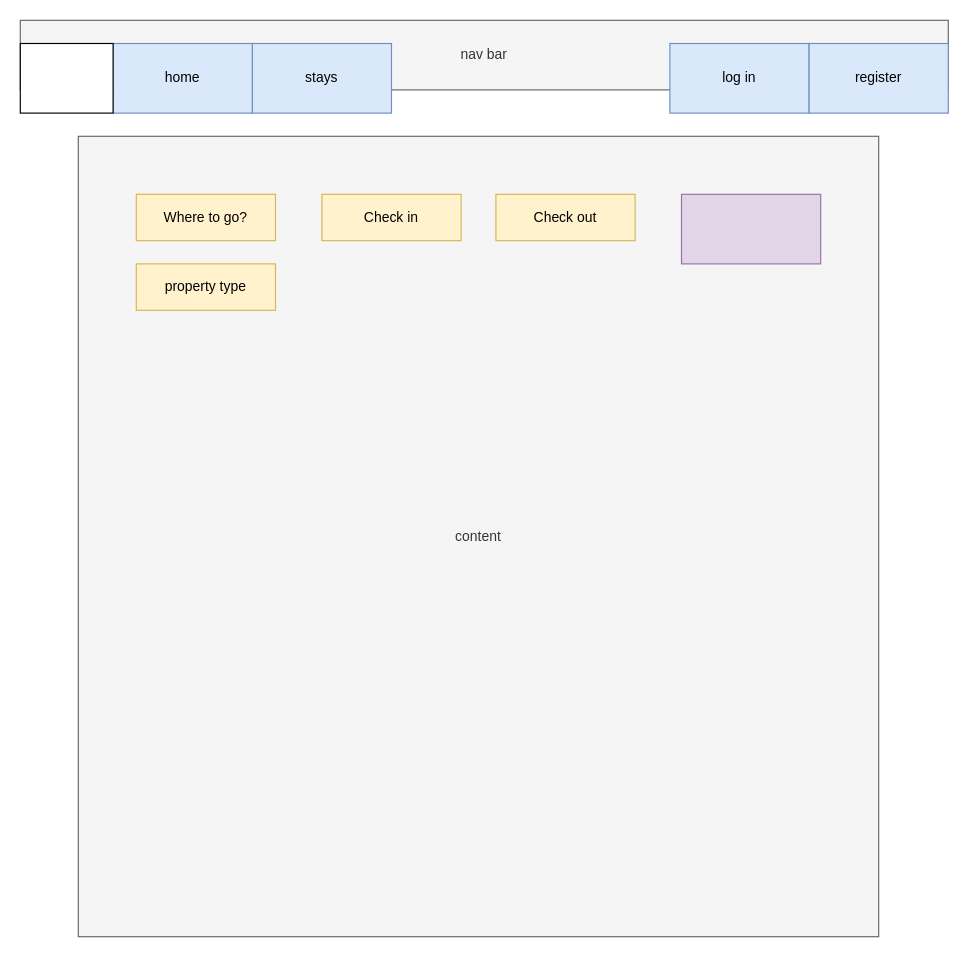
The diagram is 969 pixels wide and 957 high, and some of its shapes have lost their labels. Each missing label, with the centre of its shape:
Logo: the point at 66,77
Search: the point at 750,228
